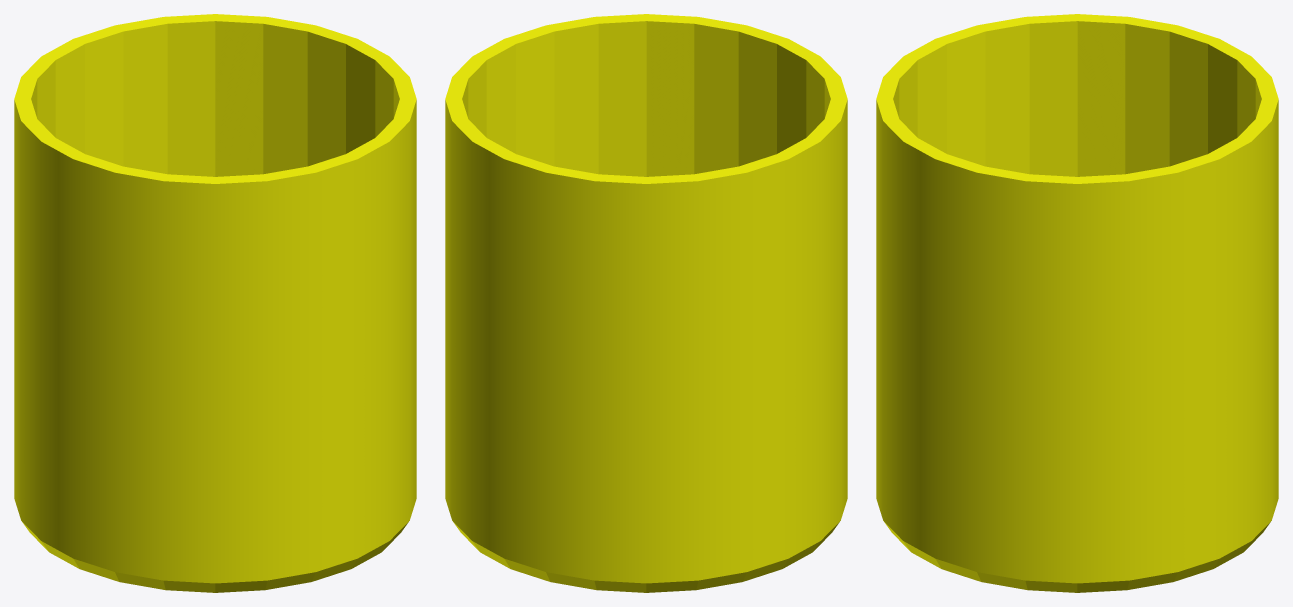
File: CupSimple.FBX
3 renders of one model, left to right at view 1: azimuth 30°, elevation 25°; view 2: azimuth 150°, elevation 25°; view 3: azimuth 270°, elevation 25°, orthographic.
Parts seen in each view (by area): view 1: Cylinder001; view 2: Cylinder001; view 3: Cylinder001.
Boxes of the visible parts, x1=… form: Cylinder001: x1=14, y1=14, x2=416, y2=592; Cylinder001: x1=445, y1=14, x2=847, y2=592; Cylinder001: x1=876, y1=14, x2=1278, y2=592.
Size of the model in its own units: 13.54 by 13.54 by 15.57.
